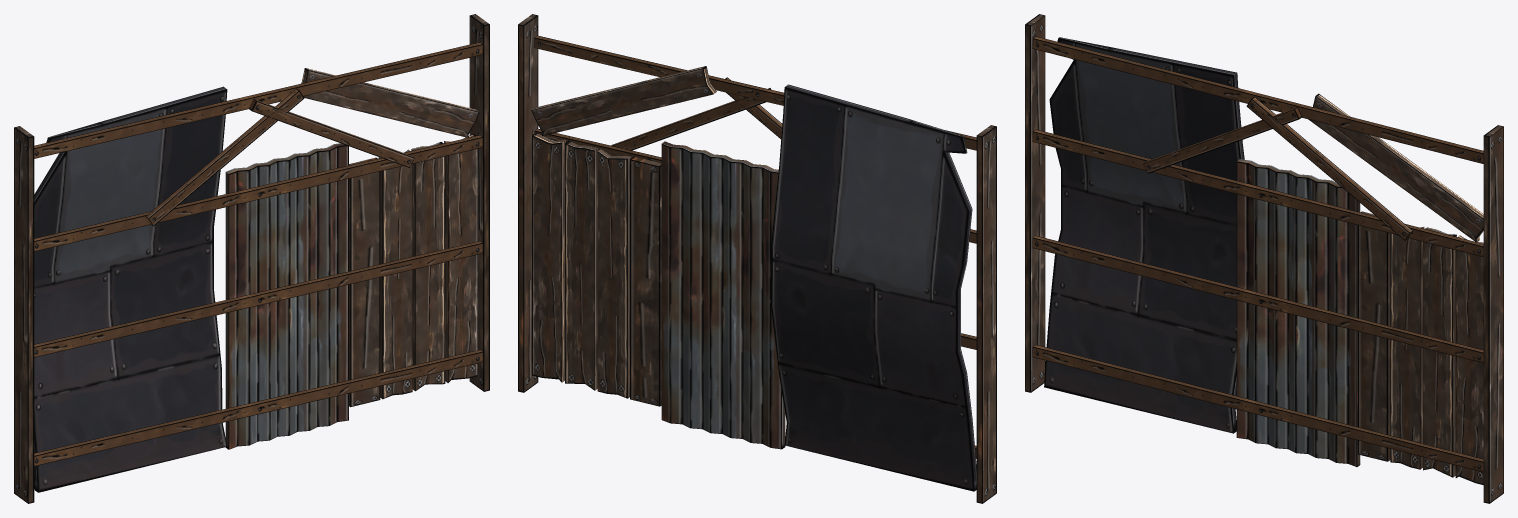
Rendered from wall_03.fbx.
3 renders of one model, left to right at view 1: azimuth 30°, elevation 25°; view 2: azimuth 150°, elevation 25°; view 3: azimuth 330°, elevation 25°, orthographic.
Visible parts, largest first — view 1: Junk_Wall_03; view 2: Junk_Wall_03; view 3: Junk_Wall_03.
Part boxes in pixels (box(x1,y1,x2,y2)): Junk_Wall_03: box(14, 14, 489, 503); Junk_Wall_03: box(518, 14, 996, 503); Junk_Wall_03: box(1025, 14, 1503, 503).
Size of the model in its own units: 489 by 370 by 42.11.
Materials: 1 (1 with a texture image).
